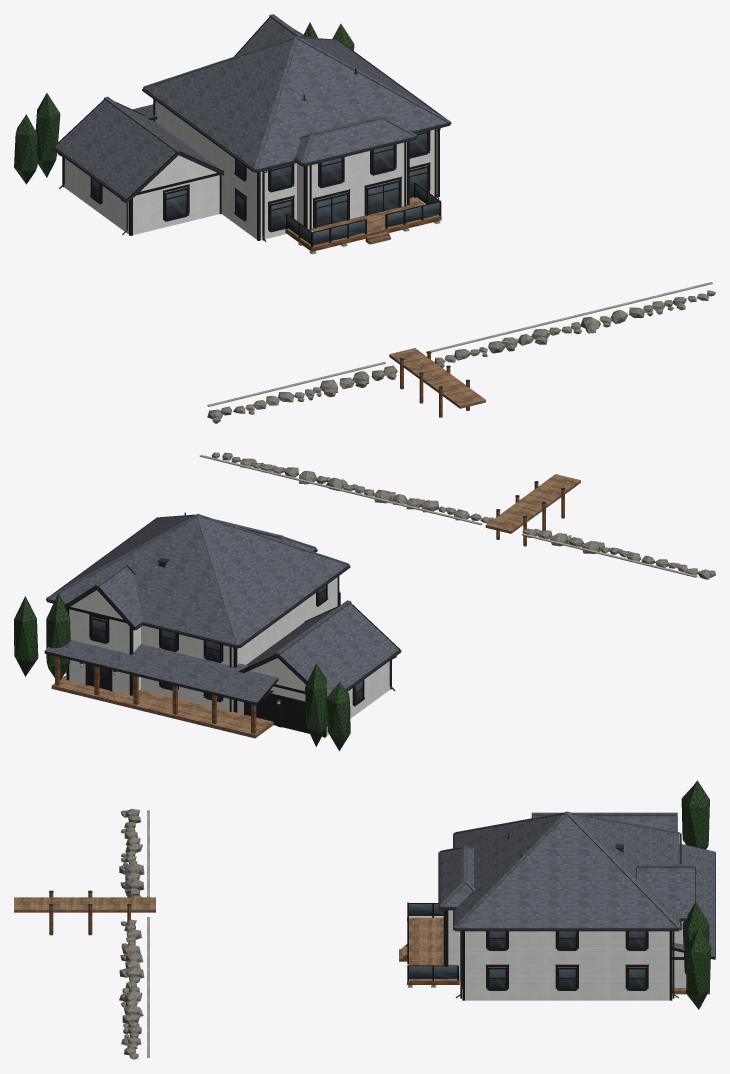
The model's file is lot-8035.fbx.
3 views of the same model, one above another, from view 1: azimuth 30°, elevation 25°; view 2: azimuth 150°, elevation 25°; view 3: azimuth 270°, elevation 25° (orthographic).
Parts seen in each view (by area): view 1: lot-8035_LOD0; view 2: lot-8035_LOD0; view 3: lot-8035_LOD0.
Part boxes in pixels (x1=…): lot-8035_LOD0: x1=14, y1=14, x2=715, y2=423; lot-8035_LOD0: x1=14, y1=452, x2=715, y2=751; lot-8035_LOD0: x1=14, y1=780, x2=715, y2=1059.
Size of what is drawn, in the model's own units: 39.57 by 12.13 by 46.94.
2 materials, 2 textured.
